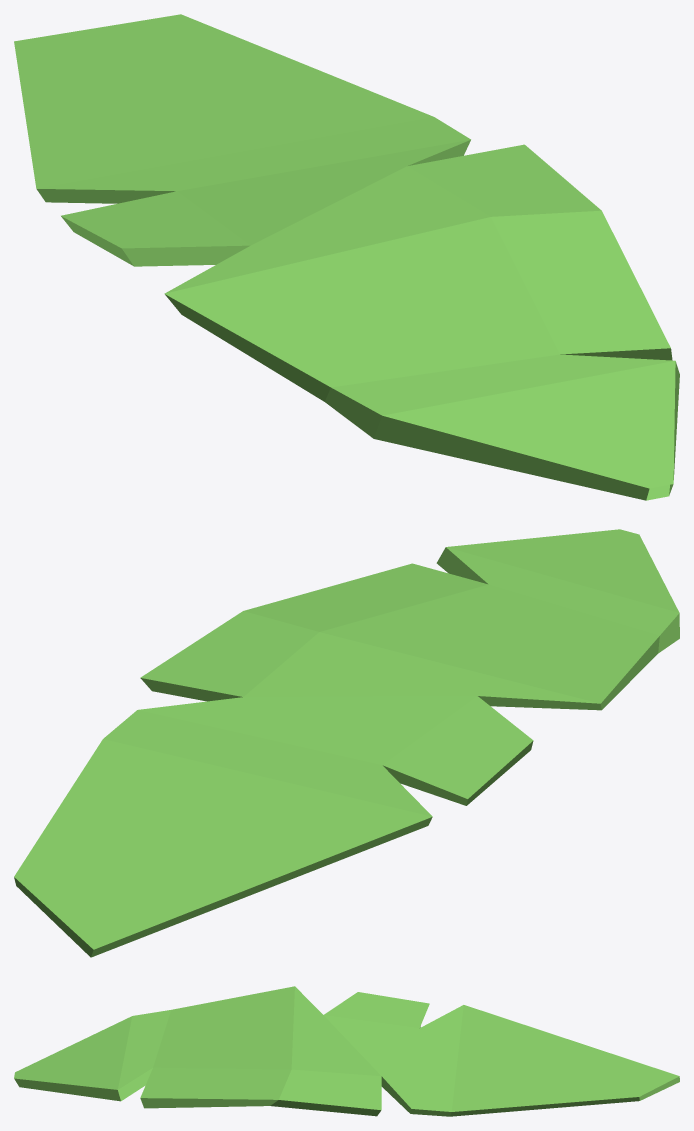
Rendered from Leaf_1.fbx.
3 renders of one model, top to bottom at view 1: azimuth 30°, elevation 25°; view 2: azimuth 150°, elevation 25°; view 3: azimuth 270°, elevation 25°, orthographic. The views are drawn at different scales.
Visible parts, largest first — view 1: Leaf1; view 2: Leaf1; view 3: Leaf1.
Boxes of the visible parts, x1,y1,x2,y2 form: Leaf1: [14, 14, 679, 500]; Leaf1: [14, 529, 679, 957]; Leaf1: [14, 986, 679, 1116].
Size of the model in its own units: 68.95 by 11.35 by 170.
